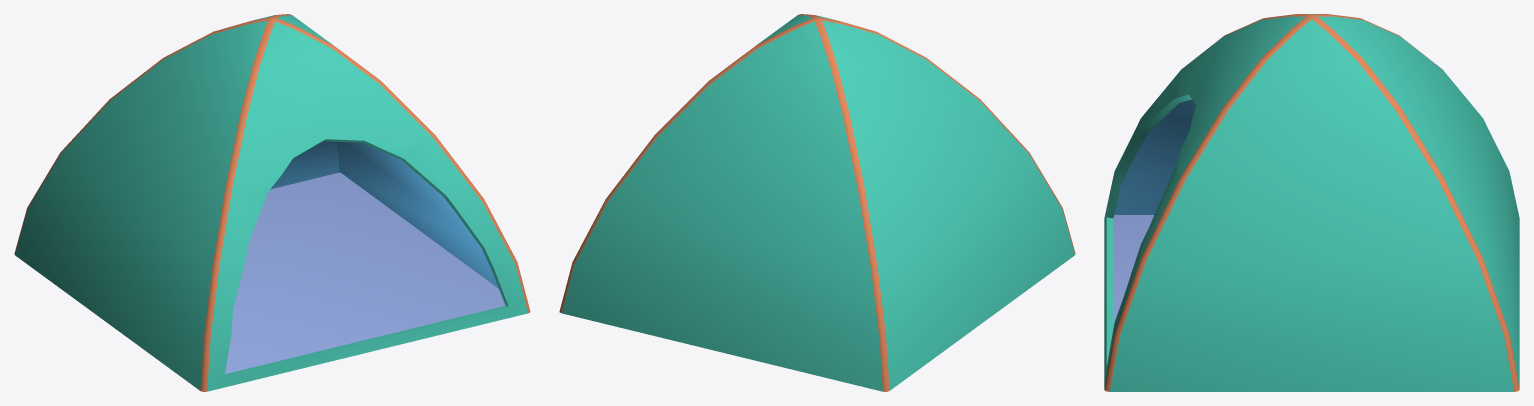
The model's file is Tent_03.fbx.
The picture shows the model from 3 angles, left to right: view 1: azimuth 30°, elevation 25°; view 2: azimuth 150°, elevation 25°; view 3: azimuth 270°, elevation 25°; orthographic projection. The views are drawn at different scales.
Parts seen in each view (by area): view 1: Tent_03; view 2: Tent_03; view 3: Tent_03.
Boxes of the visible parts, x1=… form: Tent_03: x1=14, y1=14, x2=530, y2=391; Tent_03: x1=559, y1=14, x2=1075, y2=391; Tent_03: x1=1104, y1=14, x2=1519, y2=391.
Bounding box in the file's own units: 166 × 127 × 166.
